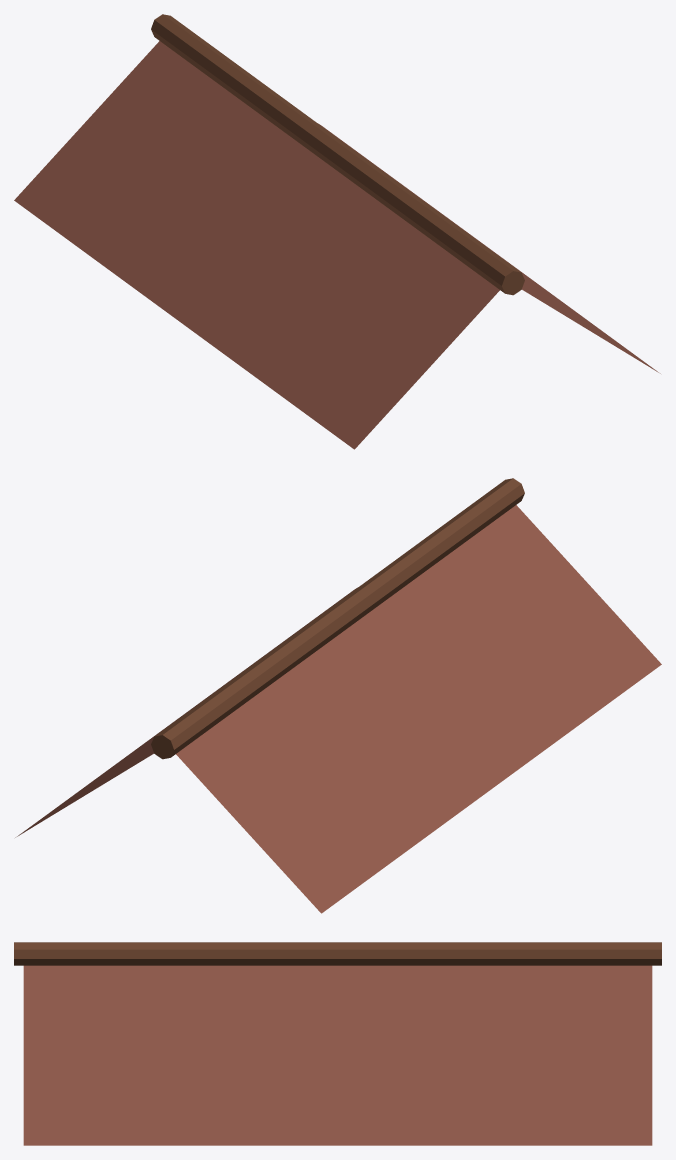
The model's file is wk_roof_gable_span_v01.glb.
3 renders of one model, top to bottom at view 1: azimuth 30°, elevation 25°; view 2: azimuth 150°, elevation 25°; view 3: azimuth 270°, elevation 25°, orthographic. The views are drawn at different scales.
Parts seen in each view (by area): view 1: GEO_RoofLeft, GEO_RoofRidge, GEO_RoofRight; view 2: GEO_RoofLeft, GEO_RoofRidge, GEO_RoofRight; view 3: GEO_RoofRight, GEO_RoofRidge.
Boxes of the visible parts, <box> form: GEO_RoofLeft: <box>14,41,499,449</box>; GEO_RoofRidge: <box>151,14,524,295</box>; GEO_RoofRight: <box>318,123,660,373</box>; GEO_RoofLeft: <box>176,505,661,913</box>; GEO_RoofRidge: <box>151,478,524,759</box>; GEO_RoofRight: <box>15,587,357,837</box>; GEO_RoofRight: <box>23,965,652,1145</box>; GEO_RoofRidge: <box>14,942,661,965</box>.
Bounding box in the file's own units: 1.72 × 0.775 × 3.4.
